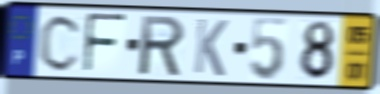5: (248, 15, 291, 83)
8: (296, 19, 336, 84)
C: (37, 12, 84, 74)
F: (81, 11, 129, 77)
K: (192, 16, 230, 79)
R: (139, 14, 187, 79)
